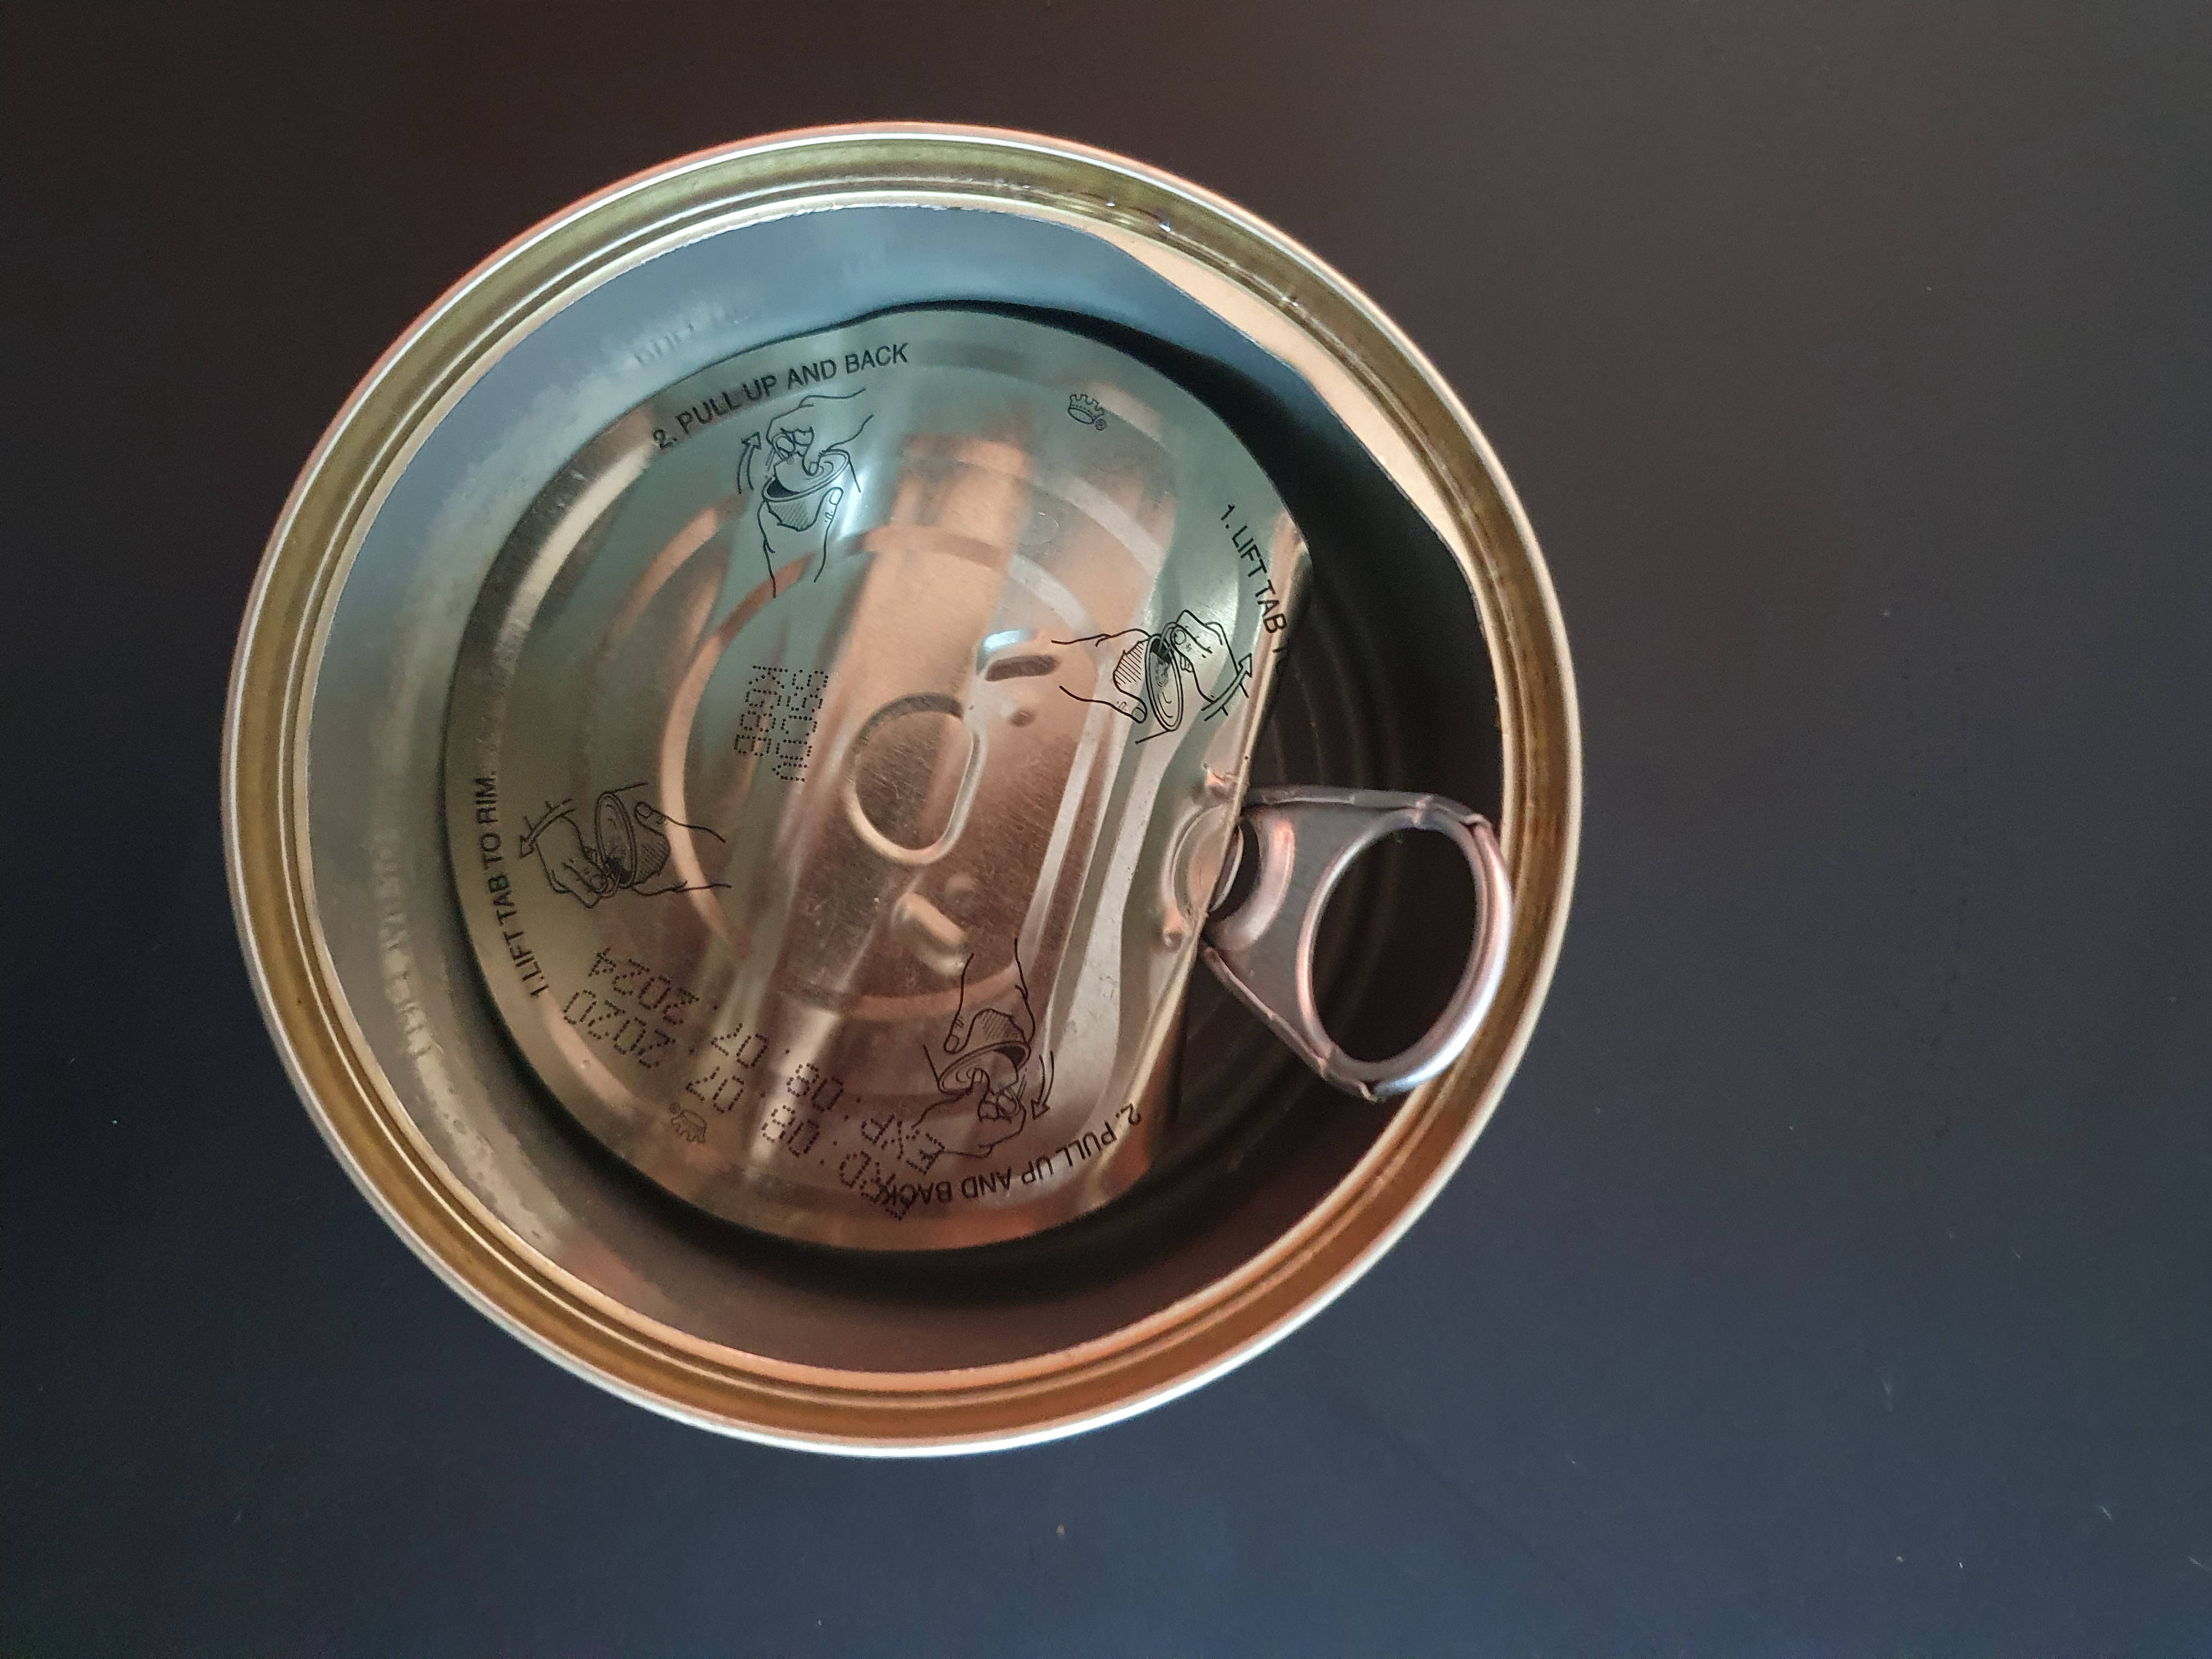metal: (165, 84, 1651, 1506)
